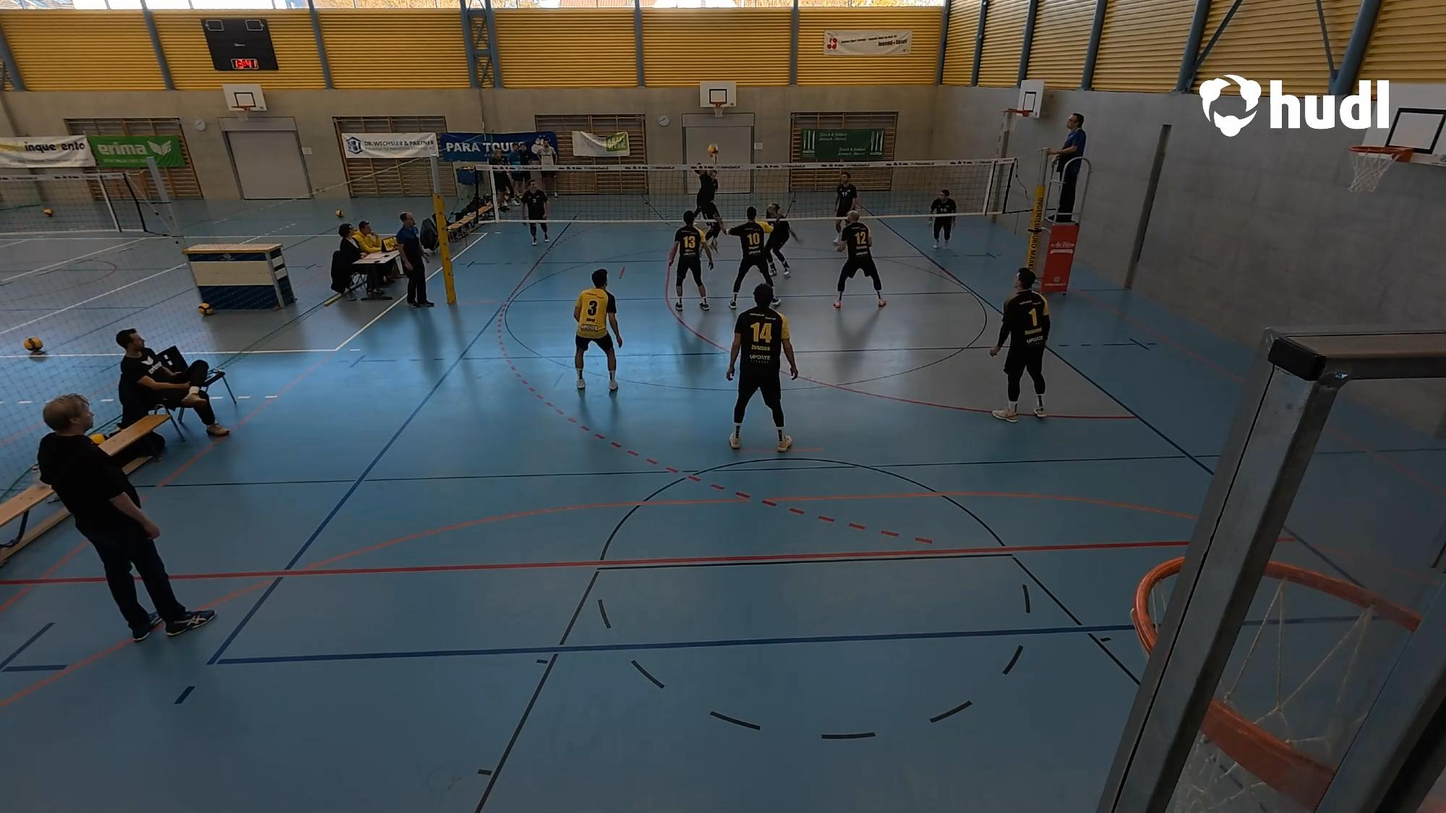alzata: (692, 139, 725, 256)
